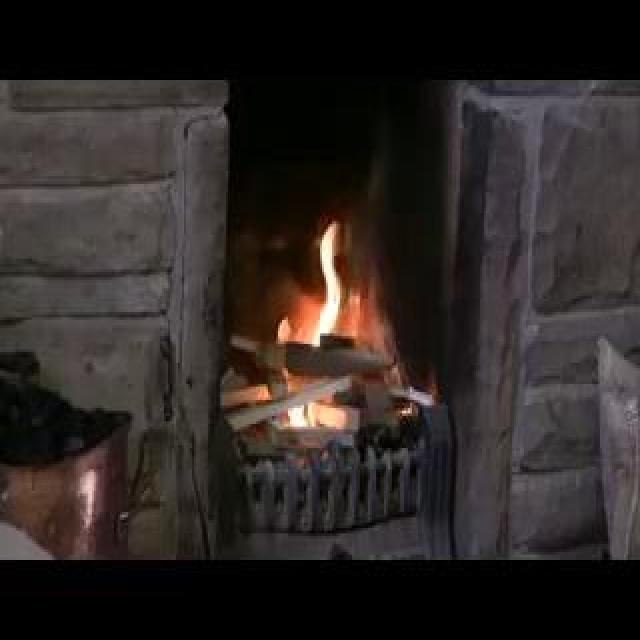Fire: (78, 138, 326, 280)
